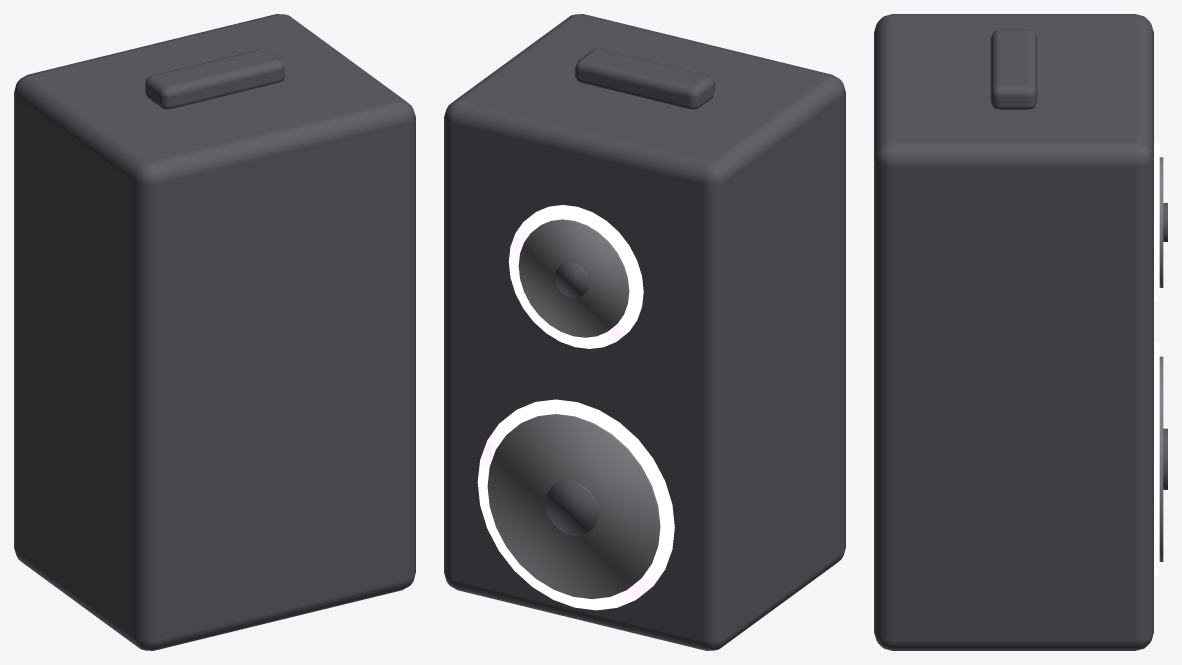
The model's file is escena.casa.parlante.fbx.
3 views of the same model, side by side, from view 1: azimuth 30°, elevation 25°; view 2: azimuth 150°, elevation 25°; view 3: azimuth 270°, elevation 25° (orthographic). The views are drawn at different scales.
Parts seen in each view (by area): view 1: Caja, Manilla; view 2: Caja, Cono, Cono.001, Borde, Borde.001, Manilla, Centro, Centro.001; view 3: Caja, Manilla, Borde, Cono, Borde.001, Cono.001.
Boxes of the visible parts, x1,y1,x2,y2 form: Caja: [14, 14, 415, 650]; Manilla: [145, 49, 284, 109]; Caja: [444, 14, 845, 650]; Cono: [487, 414, 660, 599]; Cono.001: [518, 219, 629, 337]; Borde: [477, 399, 674, 610]; Borde.001: [508, 205, 643, 348]; Manilla: [575, 49, 714, 109]; Centro: [545, 480, 598, 535]; Centro.001: [554, 262, 589, 298]; Caja: [874, 14, 1153, 650]; Manilla: [990, 29, 1037, 109]; Borde: [1154, 342, 1159, 575]; Cono: [1159, 356, 1163, 561]; Borde.001: [1154, 143, 1159, 301]; Cono.001: [1159, 157, 1163, 287].
Size of the model in its own units: 0.36 by 0.625 by 0.315.
